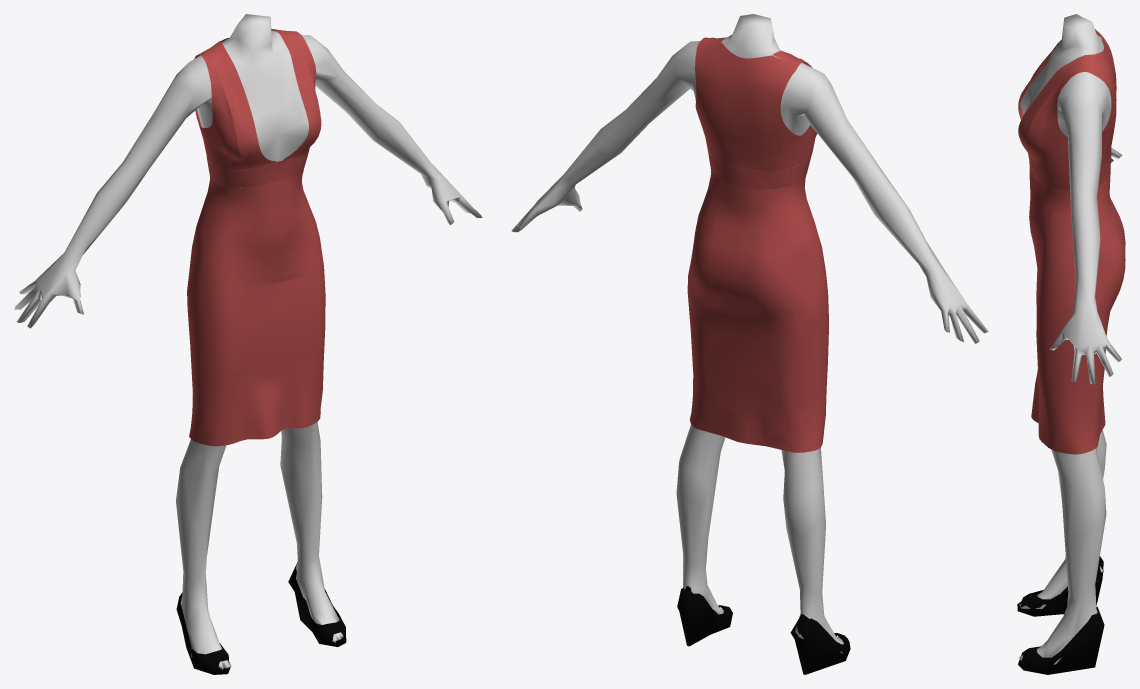
The model's file is Centre_mannequin.fbx.
3 renders of one model, left to right at view 1: azimuth 30°, elevation 25°; view 2: azimuth 150°, elevation 25°; view 3: azimuth 270°, elevation 25°, orthographic. The views are drawn at different scales.
Parts seen in each view (by area): view 1: Dress.001, Dress; view 2: Dress.001, Dress; view 3: Dress, Dress.001.
Part boxes in pixels (<box>): Dress.001: <box>187,28,325,446</box>; Dress: <box>14,14,482,674</box>; Dress.001: <box>687,37,829,452</box>; Dress: <box>511,14,988,674</box>; Dress: <box>1017,14,1122,674</box>; Dress.001: <box>1018,29,1125,454</box>.
Bounding box in the file's own units: 256 × 333 × 52.85.
